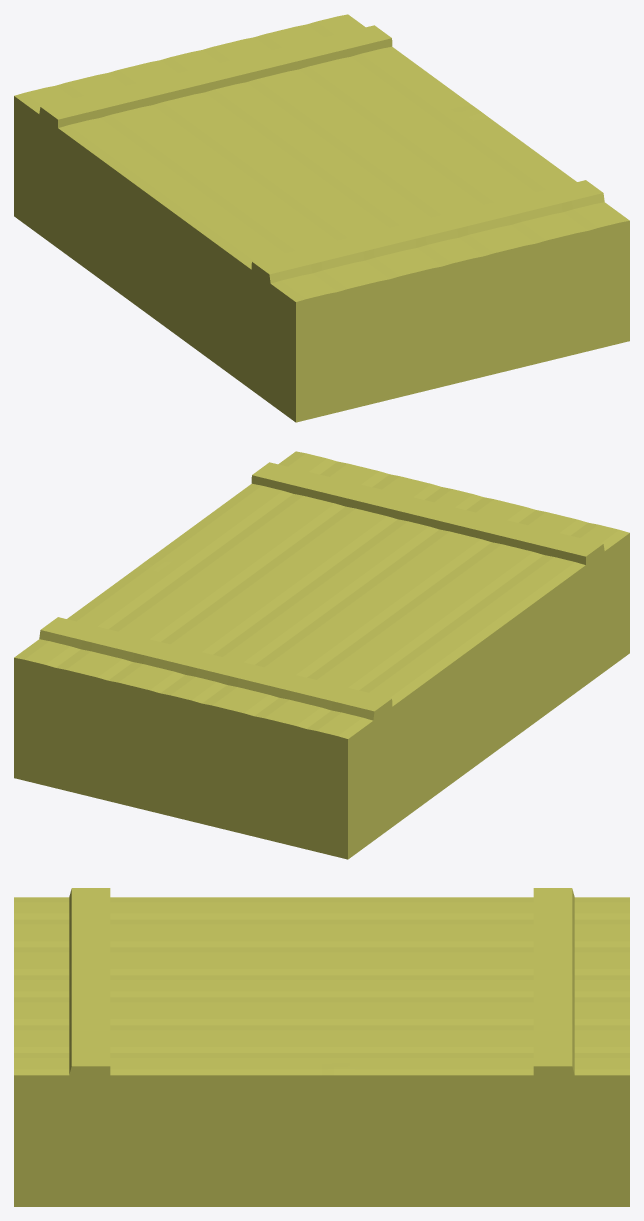
Rendered from Ammo_1.obj.
3 views of the same model, one above another, from view 1: azimuth 30°, elevation 25°; view 2: azimuth 150°, elevation 25°; view 3: azimuth 270°, elevation 25° (orthographic). The views are drawn at different scales.
Visible parts, largest first — view 1: Cube; view 2: Cube; view 3: Cube.
Part boxes in pixels (x1,y1,x2,y2): Cube: (14, 14, 629, 422); Cube: (14, 451, 629, 859); Cube: (14, 888, 629, 1206).
Size of the model in its own units: 1.33 by 0.4898 by 1.94.
